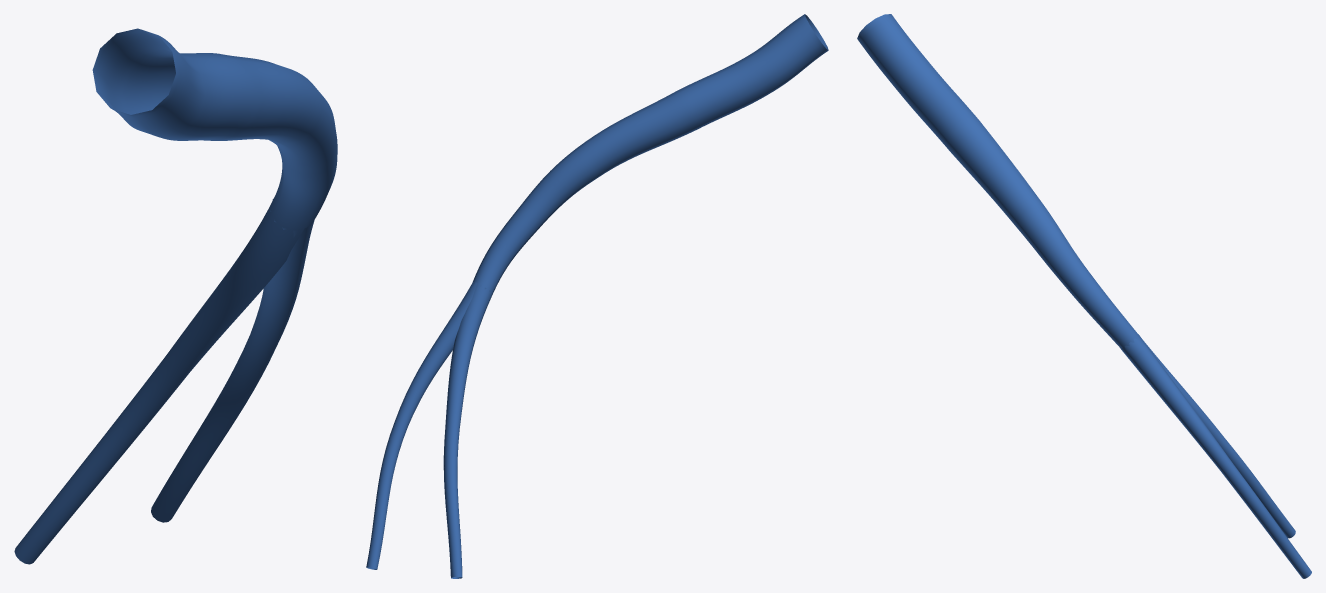
The picture shows the model from 3 angles, left to right: view 1: azimuth 30°, elevation 25°; view 2: azimuth 150°, elevation 25°; view 3: azimuth 270°, elevation 25°; orthographic projection. The views are drawn at different scales.
Parts seen in each view (by area): view 1: 左肺下舌静脉; view 2: 左肺下舌静脉; view 3: 左肺下舌静脉.
Boxes of the visible parts, box(x1,y1,x2,y2) form: 左肺下舌静脉: box(14, 28, 337, 564); 左肺下舌静脉: box(366, 14, 828, 578); 左肺下舌静脉: box(857, 14, 1311, 578).
Size of the model in its own units: 0.0609 by 0.1011 by 0.0917.
